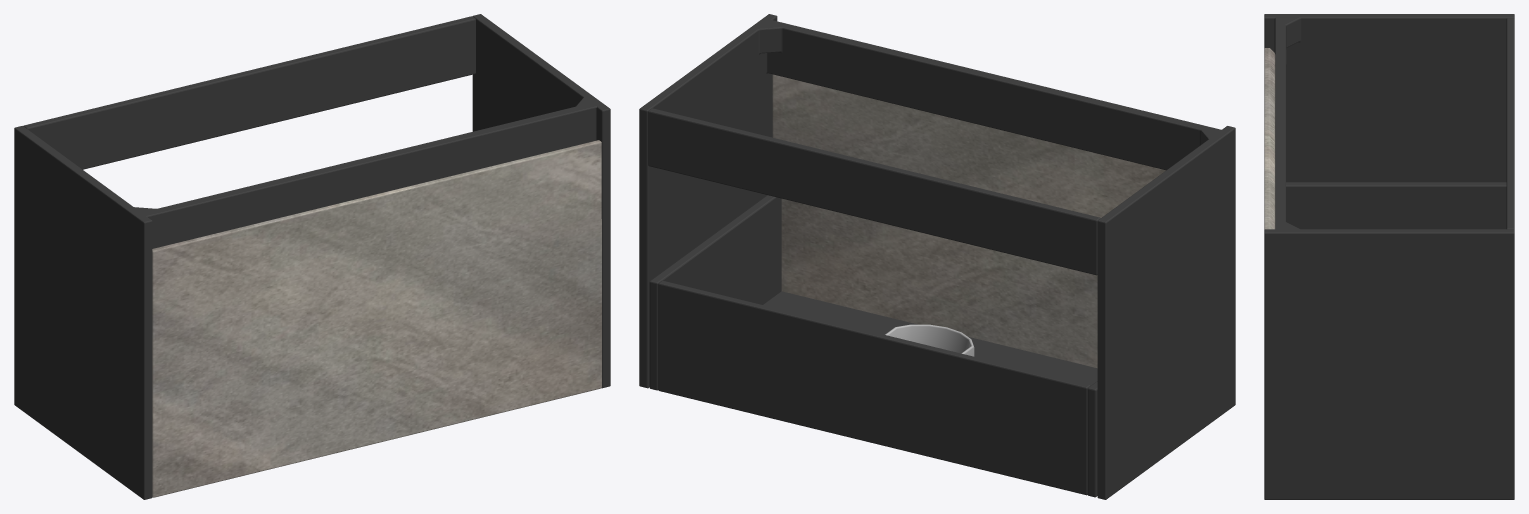
Rendered from Vanity-Cabinet-Hybrid-Pebble-800mm.glb.
The picture shows the model from 3 angles, left to right: view 1: azimuth 30°, elevation 25°; view 2: azimuth 150°, elevation 25°; view 3: azimuth 270°, elevation 25°; orthographic projection. The views are drawn at different scales.
Visible parts, largest first — view 1: VC80 1.004; view 2: VC80 1.004; view 3: VC80 1.004.
Boxes of the visible parts, <box> form: VC80 1.004: <box>14,14,610,499</box>; VC80 1.004: <box>639,14,1235,499</box>; VC80 1.004: <box>1264,14,1514,499</box>.
Size of the model in its own units: 0.8 by 0.455 by 0.386.
3 materials, 1 textured.
